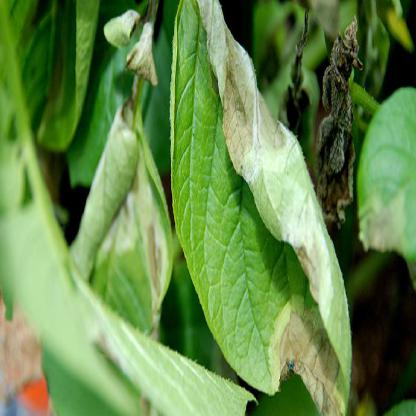Potato leaf late blight: (166, 1, 358, 415), (80, 92, 174, 380)
